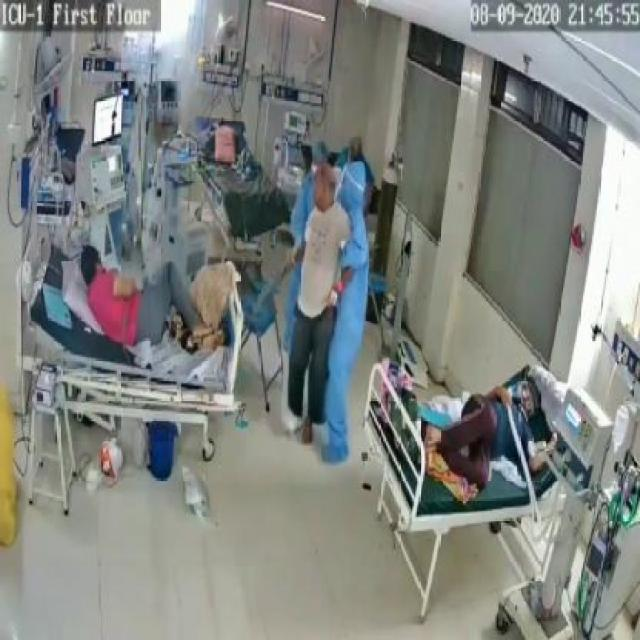smoke: (134, 38, 203, 118)
